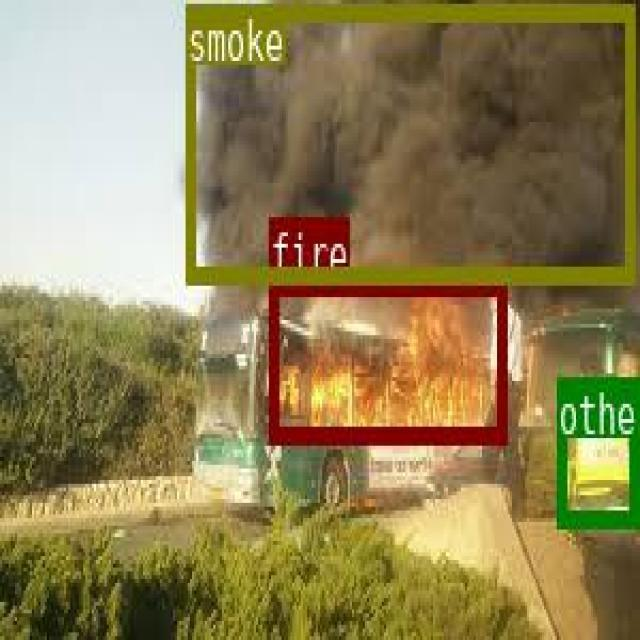fire: (268, 277, 504, 441)
smoke: (185, 1, 632, 281)
